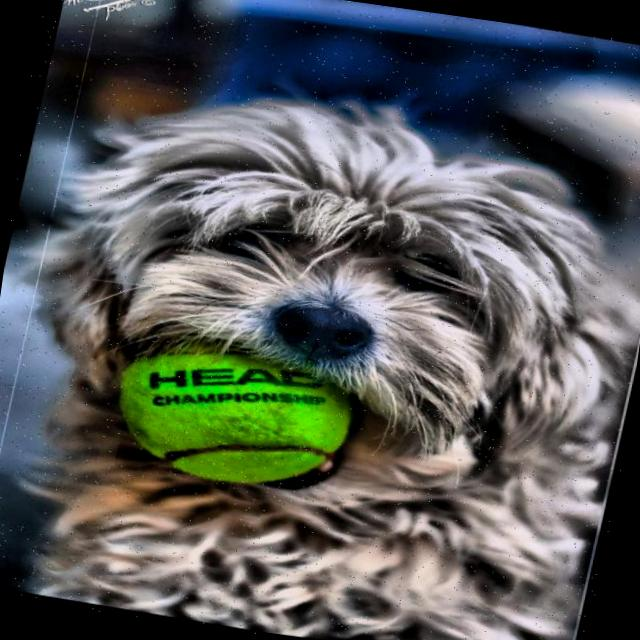Tennis Ball: (112, 329, 362, 508)
